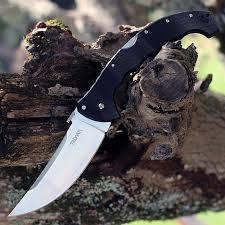knife: (30, 66, 131, 225)
